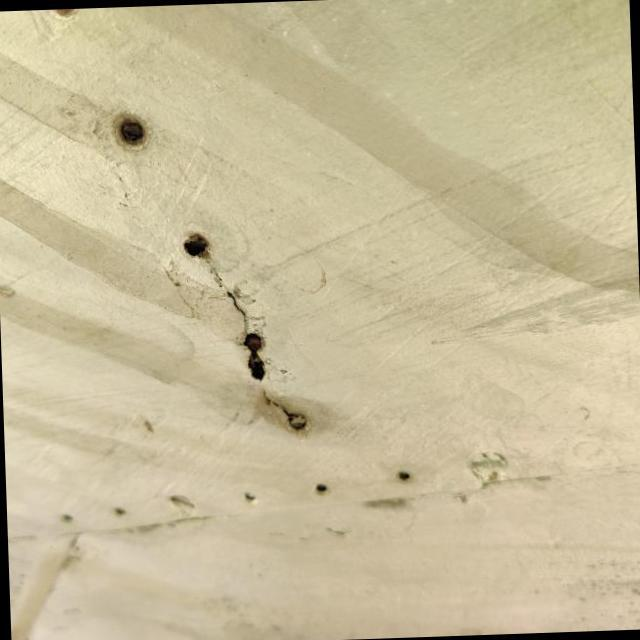Rupture: (148, 207, 329, 454)
